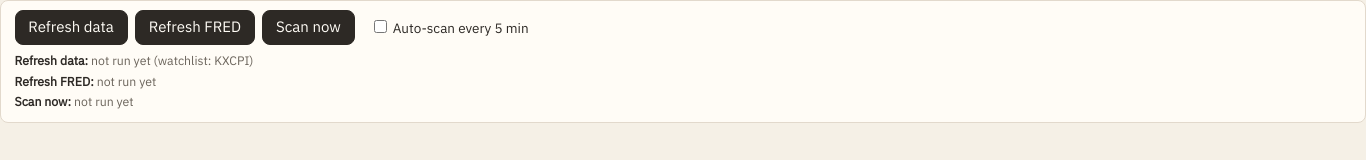
Test: <ControlBar> › announces a data refresh when a running job finishes
Click the button "Scan now" at (308, 28), box [262,10,354,45]
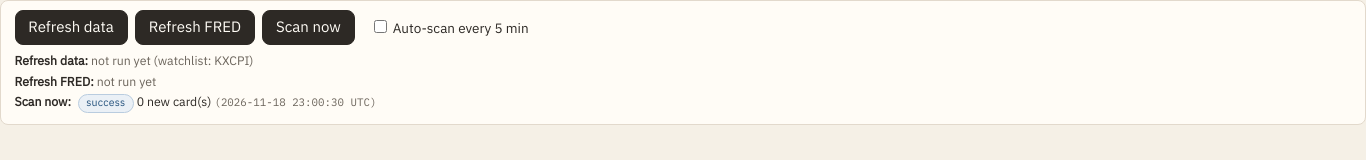
Expected: the list item "Scan now: success 0 new card(s) (2026-11-18 23:00:30 UTC)" is shown, [14,93,376,113]
